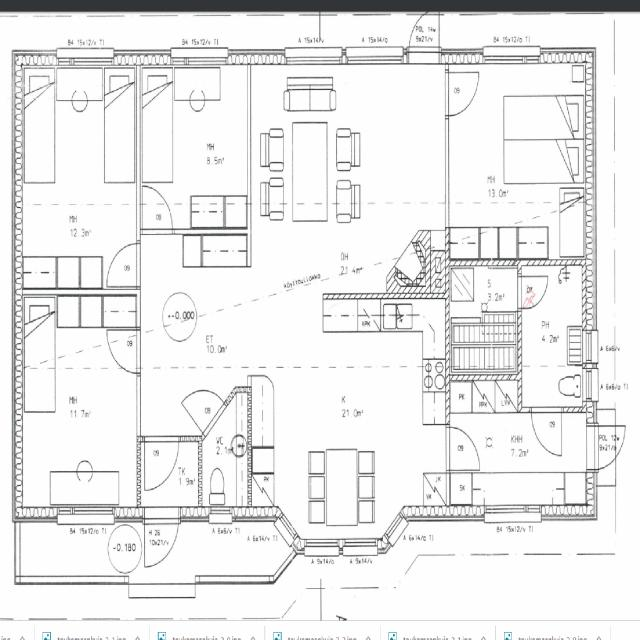door: (182, 372, 227, 438), (144, 506, 178, 571), (584, 422, 630, 470), (144, 436, 180, 493), (408, 2, 439, 65), (530, 405, 561, 455), (106, 329, 141, 373), (106, 242, 141, 286), (445, 72, 480, 115), (445, 428, 480, 470), (144, 187, 172, 235), (518, 276, 544, 308)
